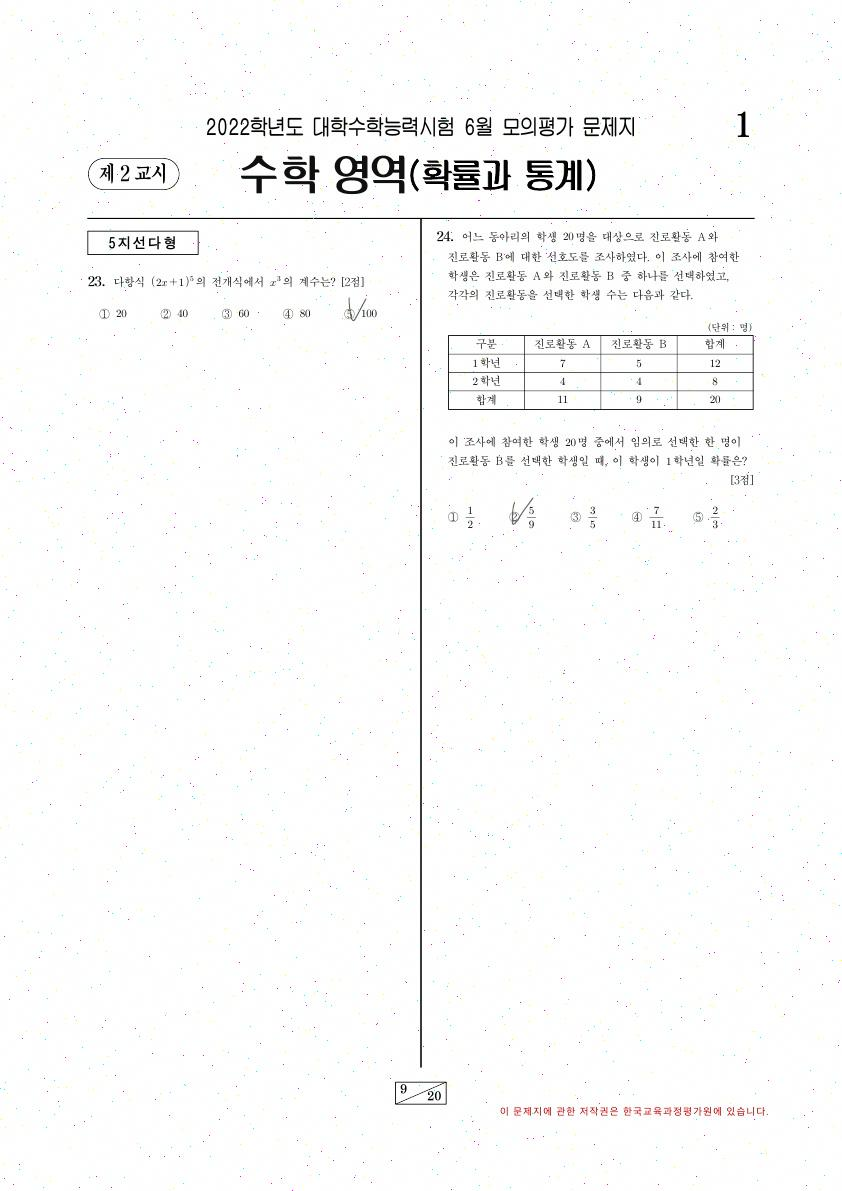question: (425, 222, 767, 548), (72, 262, 398, 342)
